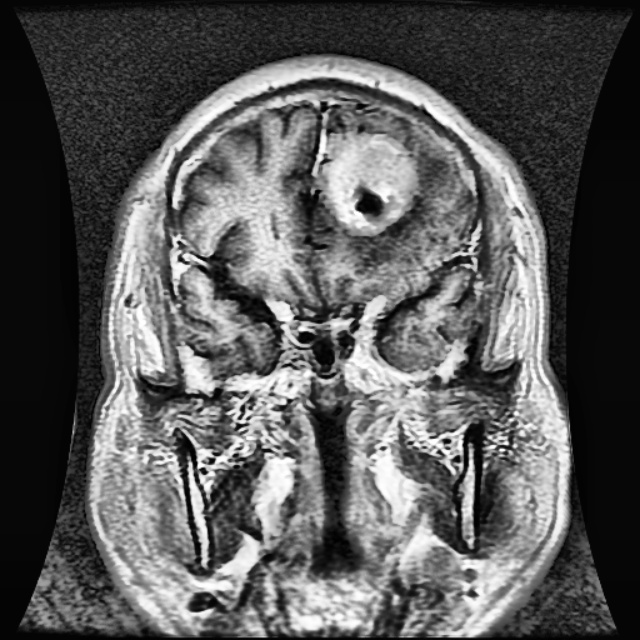Glioma: (320, 130, 417, 234)
